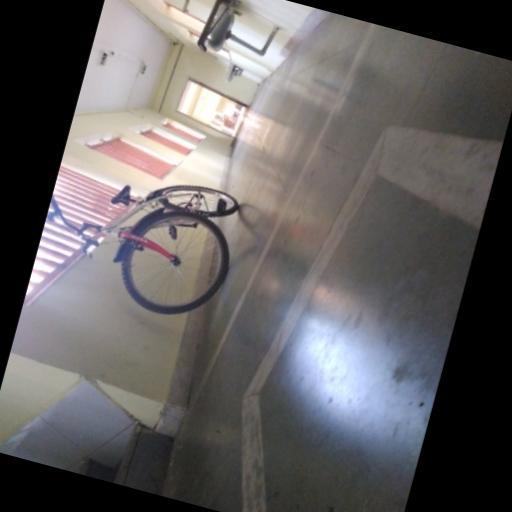stairs: (80, 426, 174, 495)
